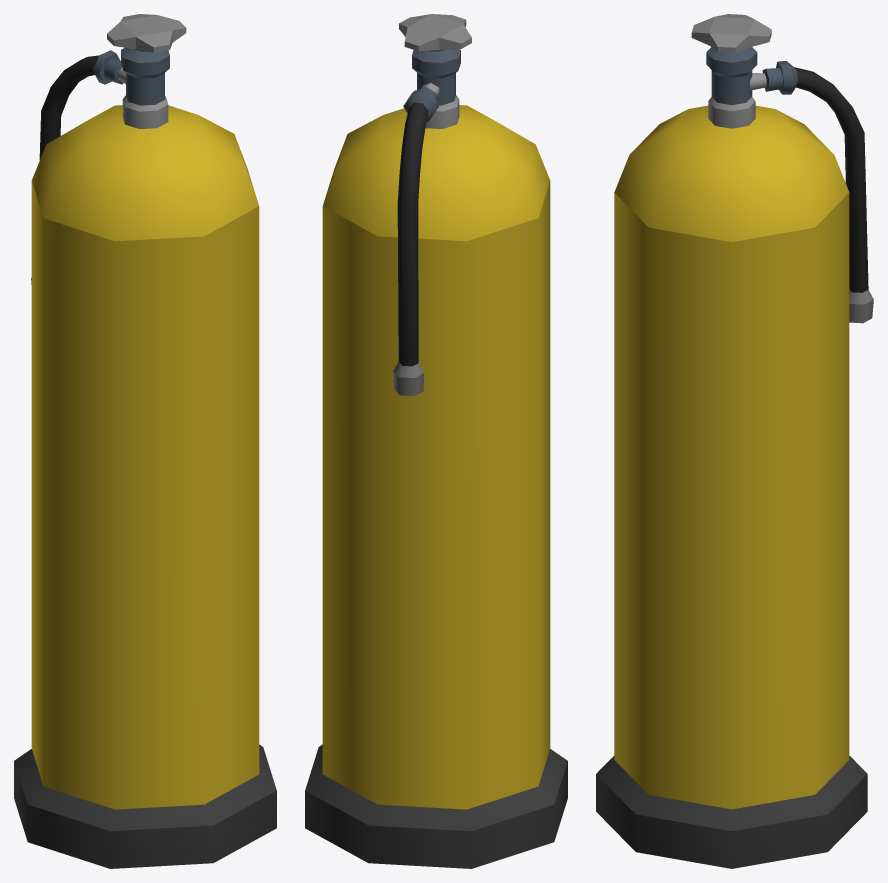
The model's file is GasCylinder_1_7.glb.
3 views of the same model, side by side, from view 1: azimuth 30°, elevation 25°; view 2: azimuth 150°, elevation 25°; view 3: azimuth 270°, elevation 25° (orthographic).
Parts seen in each view (by area): view 1: GasCylinder_1_7; view 2: GasCylinder_1_7; view 3: GasCylinder_1_7.
Boxes of the visible parts, x1,y1,x2,y2 form: GasCylinder_1_7: (14, 14, 276, 868); GasCylinder_1_7: (305, 14, 567, 868); GasCylinder_1_7: (596, 14, 873, 868).
Size of the model in its own units: 0.2747 by 0.8773 by 0.281.
2 materials, 2 textured.
